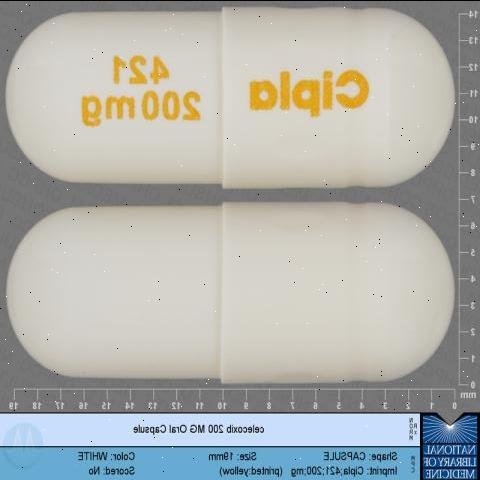Pill: (2, 194, 467, 386), (2, 9, 462, 193)
